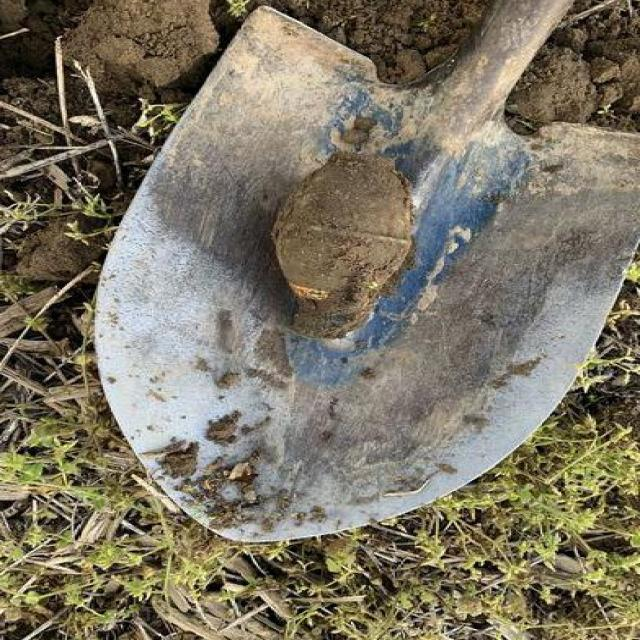grenade: (274, 156, 414, 342)
